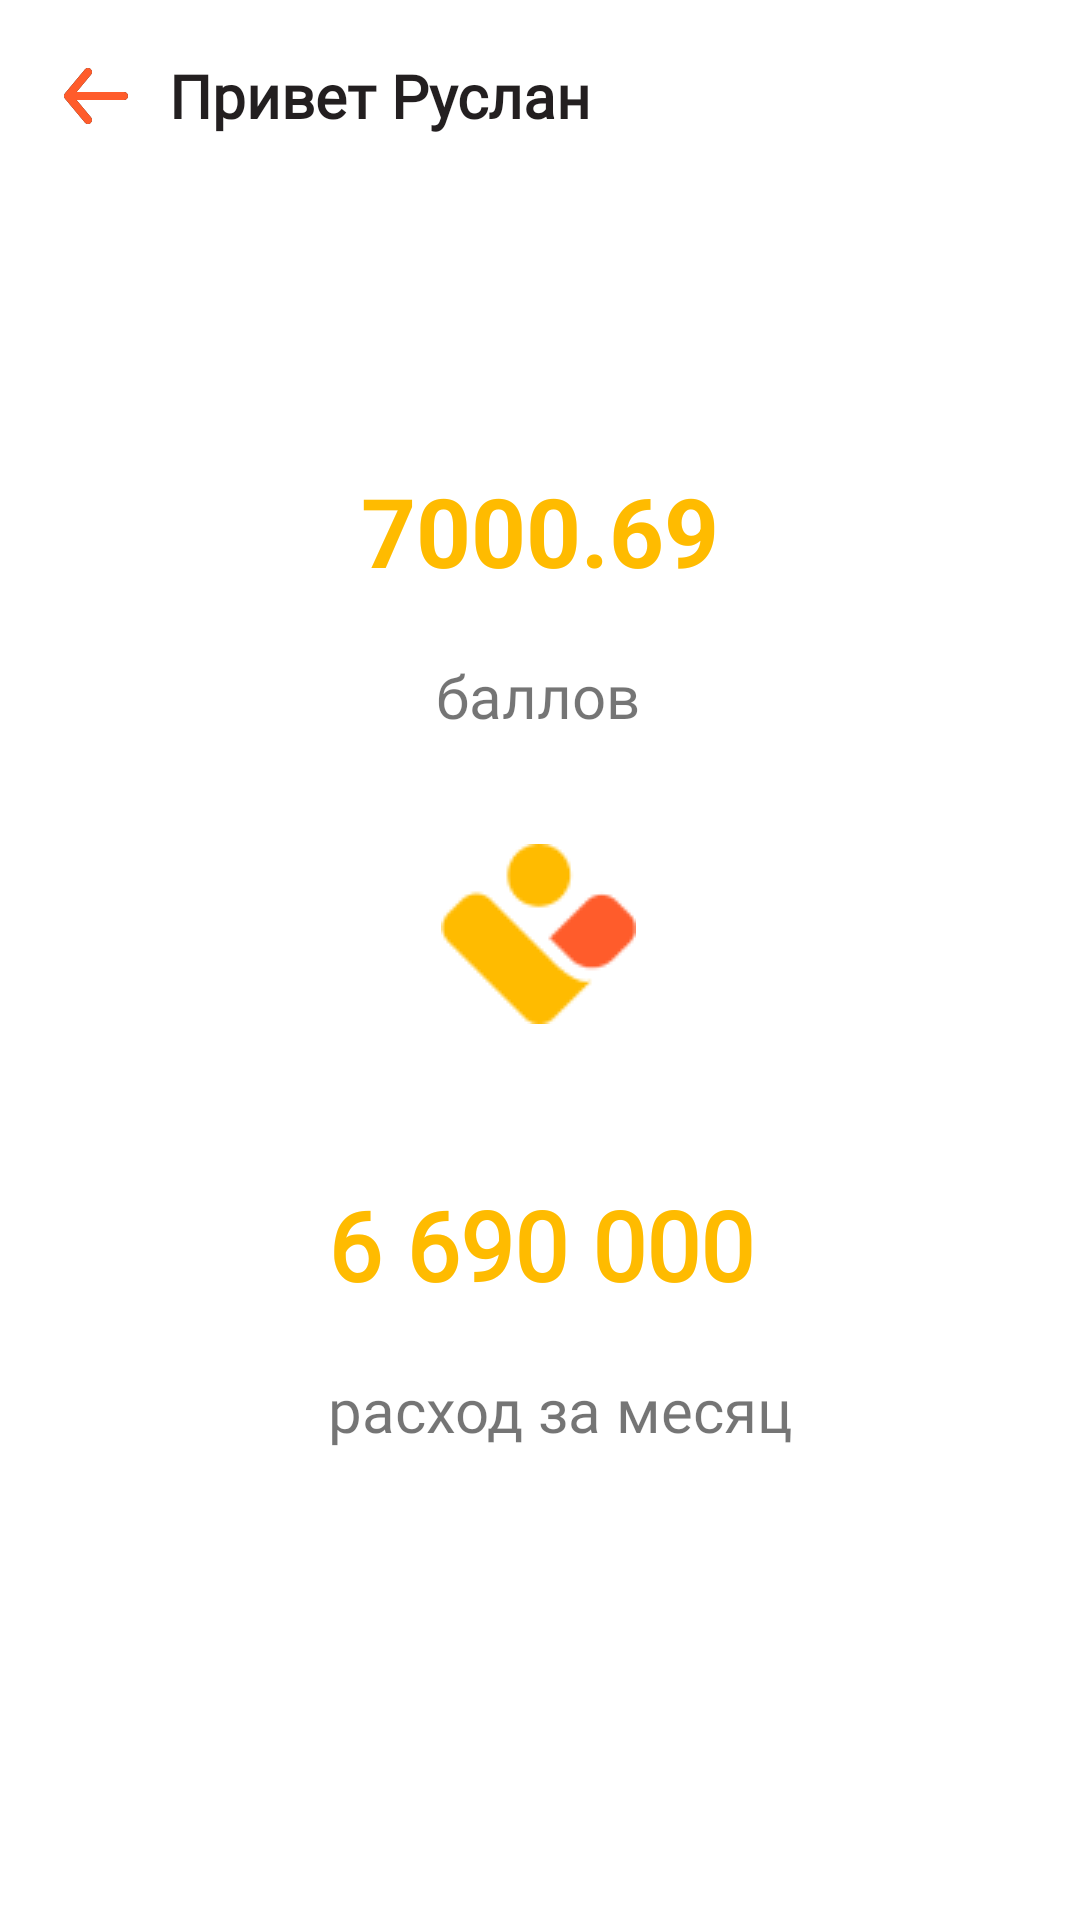

Point at icon controls on the screen. Image size 1080w x 1920h, points as (x,y).
arrow left: (96,96)
